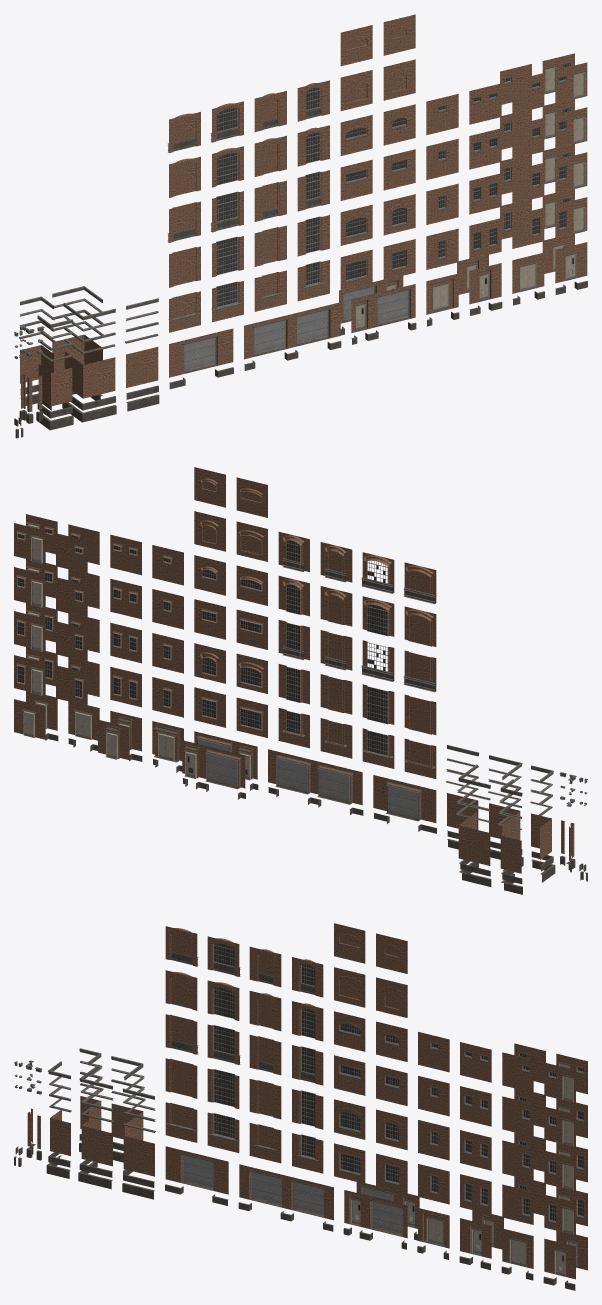
The model's file is modular_factory_facade.glb.
3 views of the same model, one above another, from view 1: azimuth 30°, elevation 25°; view 2: azimuth 150°, elevation 25°; view 3: azimuth 330°, elevation 25° (orthographic).
Parts seen in each view (by area): view 1: door_garage_double_01, wall_standard_corner_large_01, wall_door_garage_double_01, door_garage_door_01, wall_door_garage_centered_01, wall_window_centered_medium_05, wall_window_tall_small_09, wall_standard_standard_01, wall_window_centered_large_05, wall_window_centered_medium_06, wall_window_tall_small_07, wall_window_centered_large_06 (+57 smaller); view 2: door_garage_double_01, door_garage_door_02, wall_door_garage_double_01, wall_door_garage_centered_01, wall_standard_corner_large_02, wall_window_tall_large_09, wall_window_tall_small_09, wall_window_tall_large_07, wall_window_tall_small_07, wall_window_tall_small_06, wall_window_tall_large_06, wall_window_centered_medium_06 (+62 smaller); view 3: door_garage_double_01, wall_door_garage_double_01, door_garage_door_01, wall_door_garage_centered_01, wall_standard_corner_large_01, wall_window_tall_large_09, wall_window_tall_large_07, wall_window_tall_small_07, wall_window_tall_small_09, wall_window_tall_small_06, wall_window_centered_large_05, wall_window_tall_large_06 (+67 smaller).
Boxes of the visible parts, x1,y1,x2,y2 form: door_garage_double_01: (253, 307, 331, 356); wall_standard_corner_large_01: (64, 352, 115, 398); wall_door_garage_double_01: (244, 302, 340, 359); door_garage_door_01: (355, 288, 412, 331); wall_door_garage_centered_01: (169, 328, 233, 377); wall_window_centered_medium_05: (383, 59, 415, 100); wall_window_tall_small_09: (254, 135, 286, 176); wall_standard_standard_01: (126, 347, 158, 387); wall_window_centered_large_05: (340, 70, 372, 110); wall_window_centered_medium_06: (383, 14, 415, 55); wall_window_tall_small_07: (254, 225, 286, 266); wall_window_centered_large_06: (340, 25, 372, 66); door_garage_double_01: (275, 754, 353, 804); door_garage_door_02: (184, 744, 241, 789); wall_door_garage_double_01: (268, 749, 362, 805); wall_door_garage_centered_01: (373, 775, 436, 822); wall_standard_corner_large_02: (458, 812, 490, 865); wall_window_tall_large_09: (404, 606, 436, 646); wall_window_tall_small_09: (320, 586, 352, 626); wall_window_tall_large_07: (404, 694, 436, 734); wall_window_tall_small_07: (320, 674, 352, 714); wall_window_tall_small_06: (320, 718, 352, 758); wall_window_tall_large_06: (404, 738, 436, 778); wall_window_centered_medium_06: (194, 467, 225, 507); door_garage_double_01: (248, 1169, 324, 1217); wall_door_garage_double_01: (239, 1164, 333, 1220); door_garage_door_01: (348, 1194, 403, 1236); wall_door_garage_centered_01: (165, 1146, 228, 1194); wall_standard_corner_large_01: (81, 1112, 112, 1166); wall_window_tall_large_09: (165, 970, 197, 1010); wall_window_tall_large_07: (165, 1058, 197, 1098); wall_window_tall_small_07: (249, 1079, 281, 1119); wall_window_tall_small_09: (249, 991, 281, 1031); wall_window_tall_small_06: (249, 1123, 281, 1163); wall_window_centered_large_05: (334, 967, 365, 1007); wall_window_tall_large_06: (165, 1102, 197, 1142).
Size of the model in its own units: 53.33 by 29 by 5.36.
Materials: 6 (6 with a texture image).
